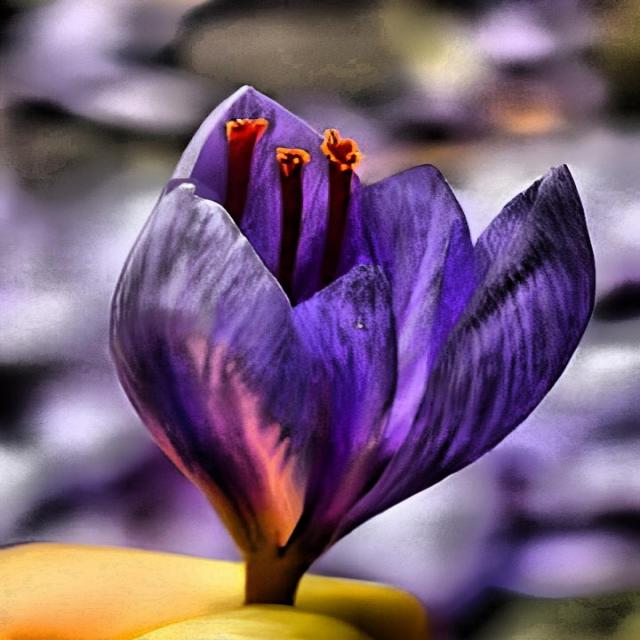Flower: (96, 77, 598, 568)
stigma: (318, 128, 361, 268), (220, 115, 273, 222), (270, 147, 311, 281)
